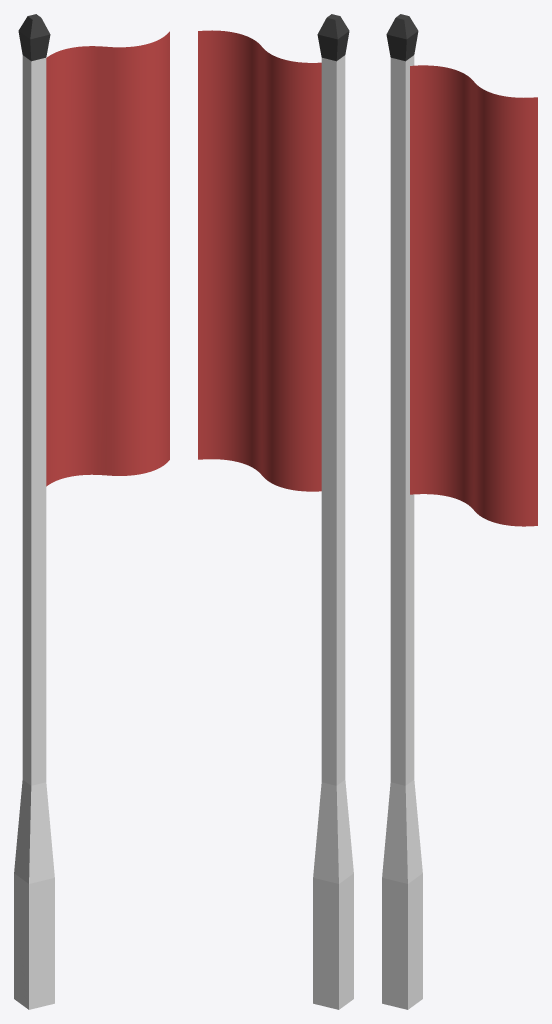
File: flagRed.glb
3 renders of one model, left to right at view 1: azimuth 30°, elevation 25°; view 2: azimuth 150°, elevation 25°; view 3: azimuth 330°, elevation 25°, orthographic.
Visible parts, largest first — view 1: flagRed(Clone), Group; view 2: flagRed(Clone), Group; view 3: flagRed(Clone), Group.
Boxes of the visible parts, x1=… form: flagRed(Clone): x1=46, y1=31, x2=169, y2=486; Group: x1=14, y1=14, x2=54, y2=1009; flagRed(Clone): x1=198, y1=30, x2=321, y2=491; Group: x1=313, y1=14, x2=353, y2=1009; flagRed(Clone): x1=410, y1=65, x2=537, y2=526; Group: x1=382, y1=14, x2=422, y2=1009.
Size of the model in its own units: 0.1972 by 1.25 by 0.0352.
